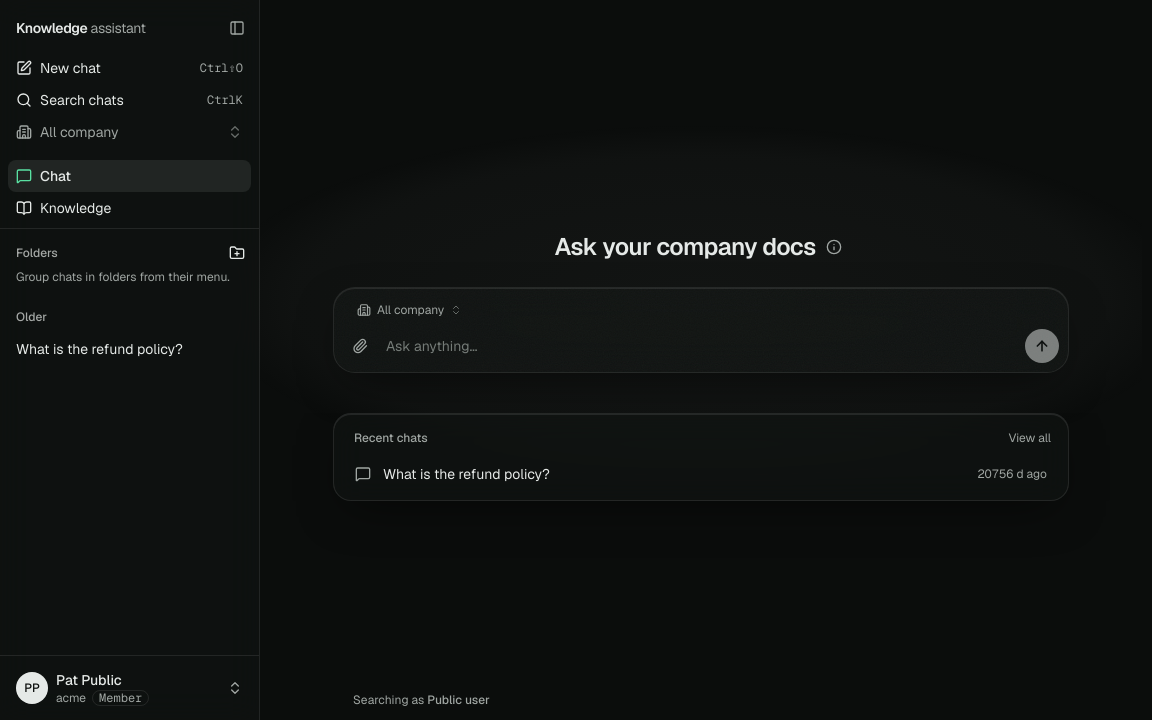
Test: the chat › lists recent chats under the composer and opens one in place
Click the button "What is the refund policy? 20756 d ago": (466, 474) [342,456,1060,492]
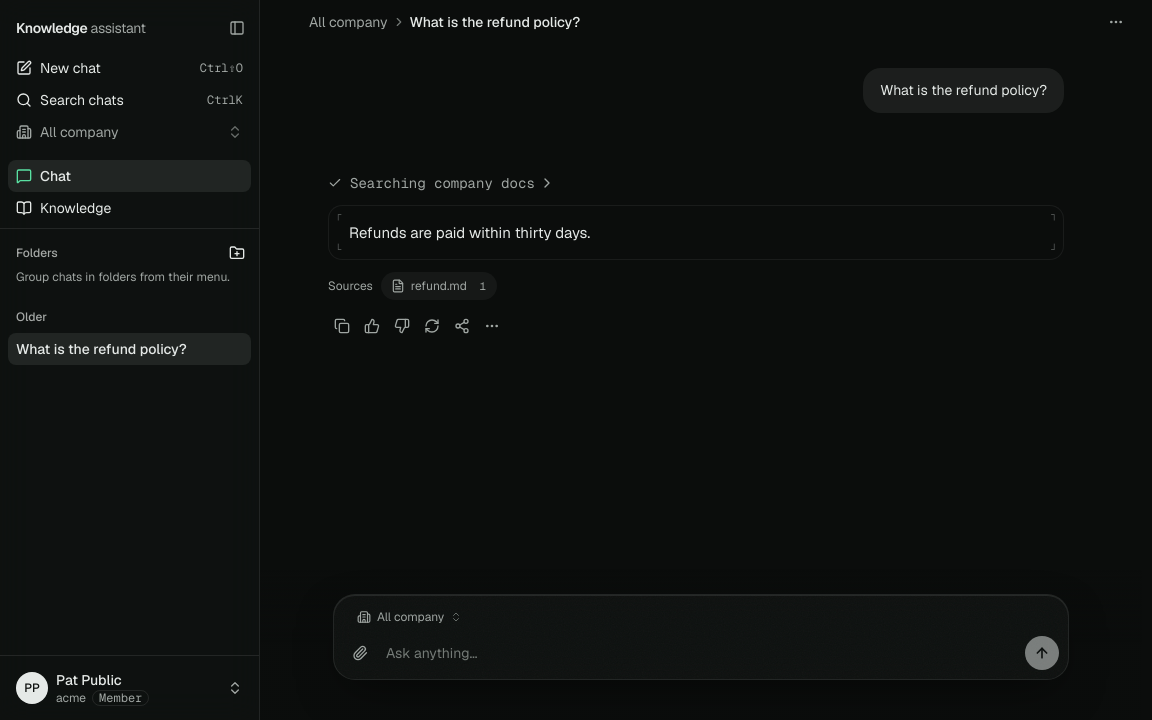
Expected: the text "Refunds are paid within thirty days." is shown, [349,223,590,242]
Expected: the heading "Recent chats" is gone
